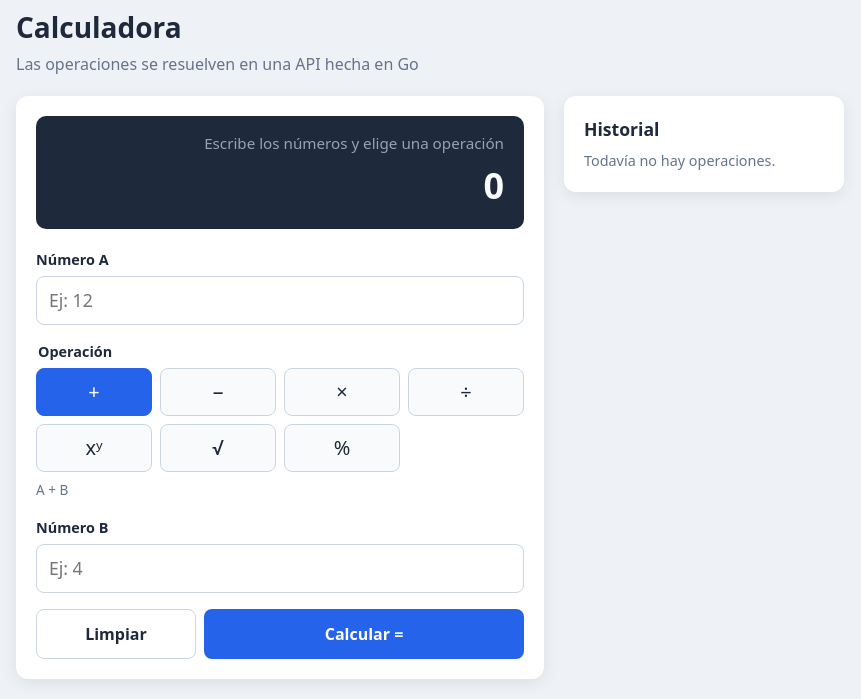
Test: App › muestra el error que devuelve el backend
Step 1. Type "5" into the field labelled "Número A" → {"x": 280, "y": 301}, box left=36, top=276, right=524, bottom=325
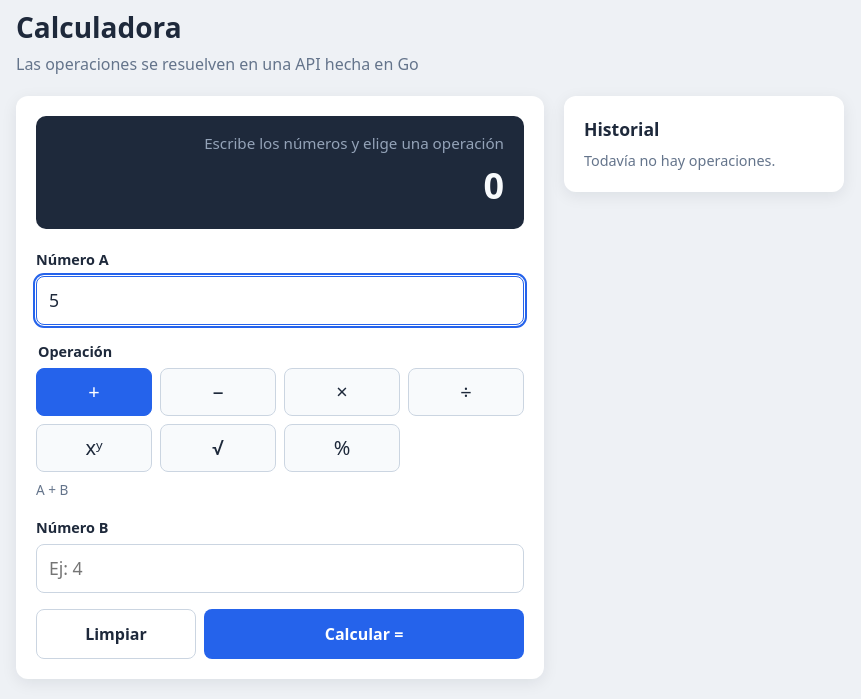
Step 2. Click the radio button named "División" → {"x": 466, "y": 392}, box left=408, top=368, right=524, bottom=416
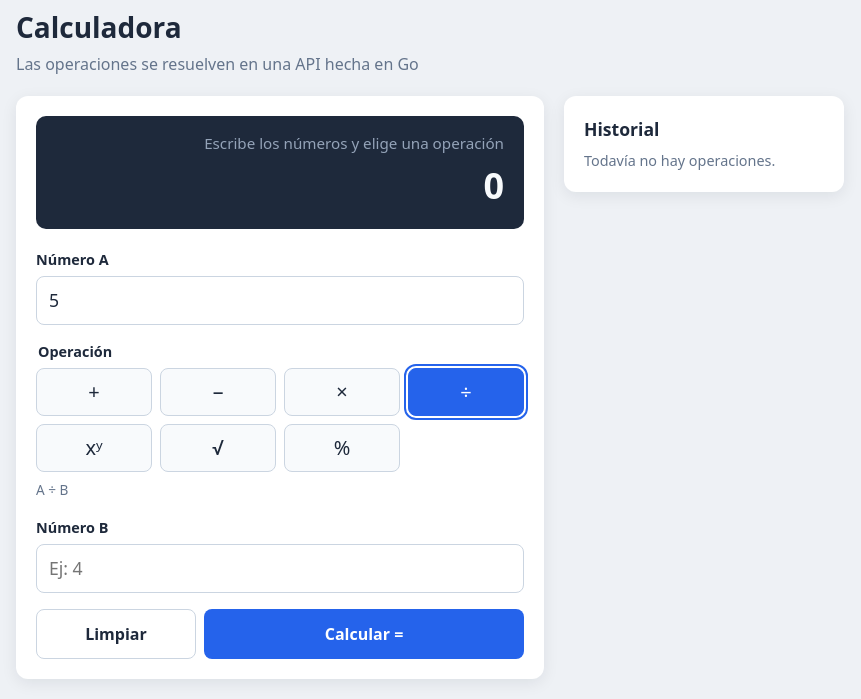
Step 3. Type "0" into the field labelled "Número B" → {"x": 280, "y": 569}, box left=36, top=544, right=524, bottom=593
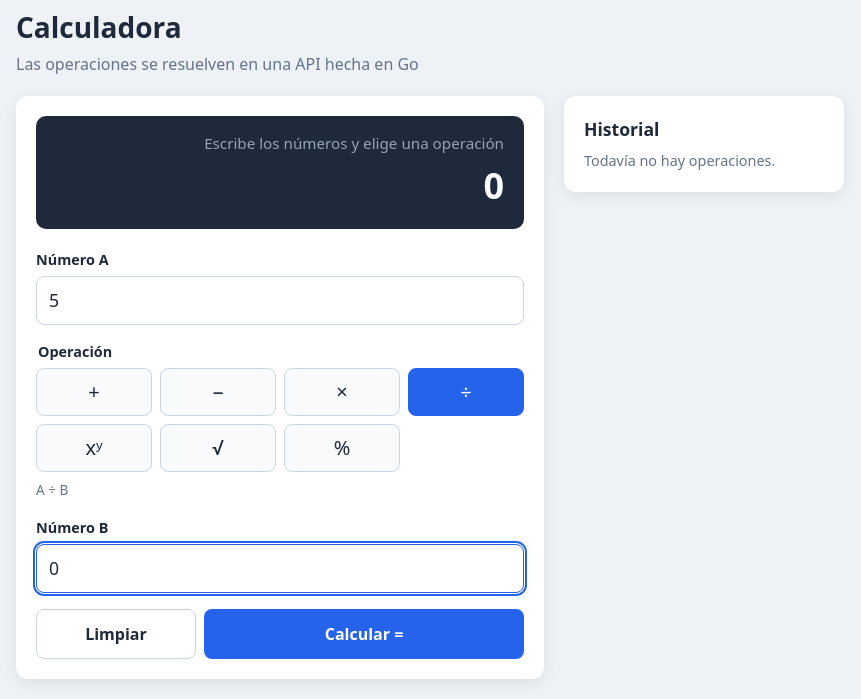
Step 4. Click the button "Calcular =" → {"x": 364, "y": 634}, box left=204, top=609, right=524, bottom=659
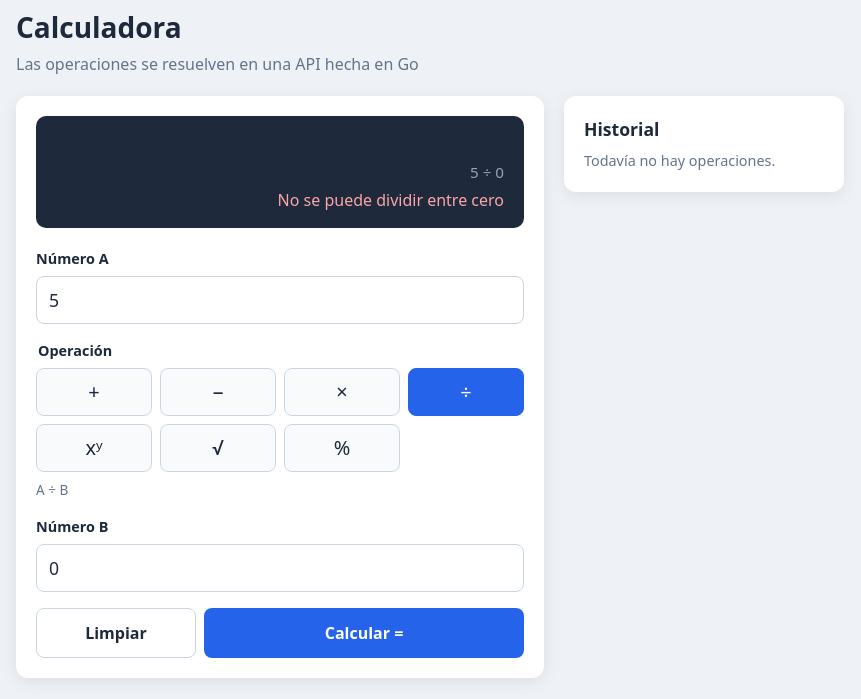
Expected: the text "Todavía no hay operaciones." is shown, left=584, top=151, right=775, bottom=170
Now the message reads "no se puede dividir entre cero", box left=278, top=189, right=504, bottom=211
